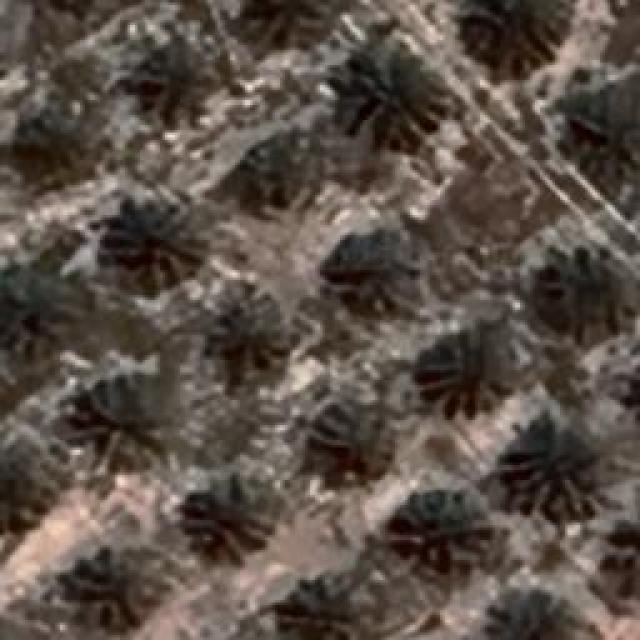PalmTree: (220, 118, 335, 218), (334, 45, 448, 145), (492, 415, 600, 520), (116, 23, 224, 126), (538, 245, 638, 338), (1, 258, 89, 362), (8, 82, 102, 178), (100, 200, 202, 288), (78, 375, 170, 470), (258, 570, 382, 640), (202, 282, 290, 380), (322, 232, 420, 318), (180, 475, 272, 563), (460, 0, 570, 72), (70, 548, 168, 628), (388, 490, 490, 565), (420, 332, 508, 418), (572, 90, 638, 188), (310, 405, 392, 480), (0, 434, 61, 528), (234, 1, 338, 54), (474, 587, 588, 635)
